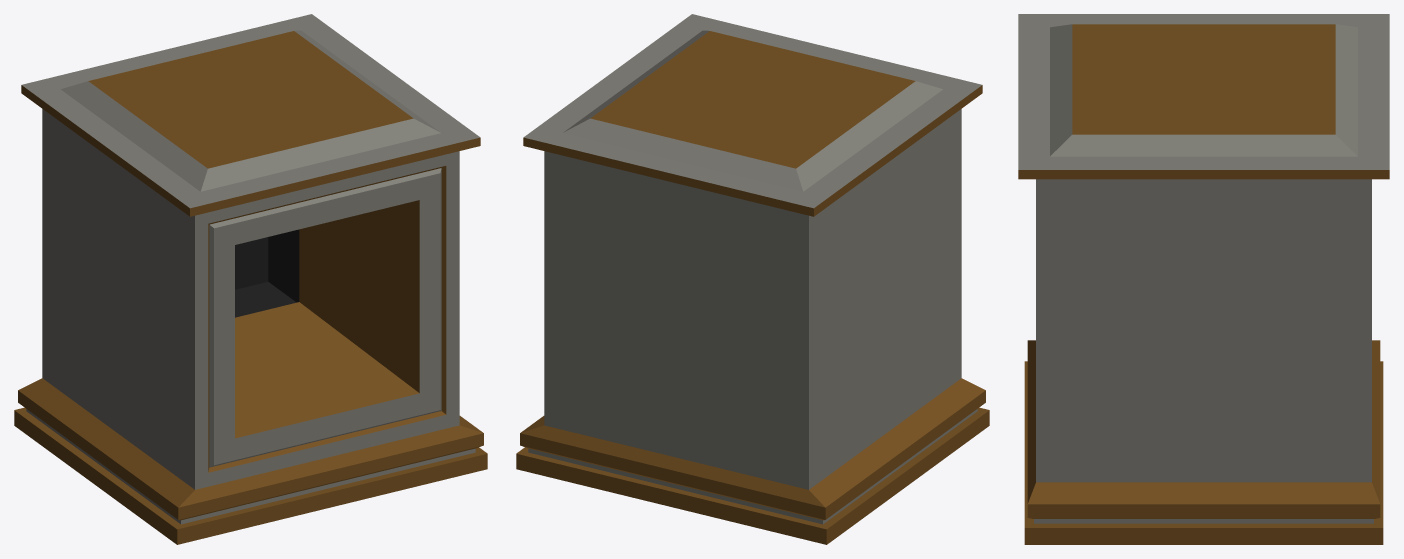
File: laserReciever.fbx
The picture shows the model from 3 angles, left to right: view 1: azimuth 30°, elevation 25°; view 2: azimuth 150°, elevation 25°; view 3: azimuth 270°, elevation 25°; orthographic projection. The views are drawn at different scales.
Visible parts, largest first — view 1: Laser Reciever; view 2: Laser Reciever; view 3: Laser Reciever.
Part boxes in pixels (left/top/right/bottom): Laser Reciever: left=14, top=14, right=487, bottom=544; Laser Reciever: left=516, top=14, right=989, bottom=544; Laser Reciever: left=1018, top=14, right=1389, bottom=544.
Size of the model in its own units: 95.23 by 102 by 89.61.
